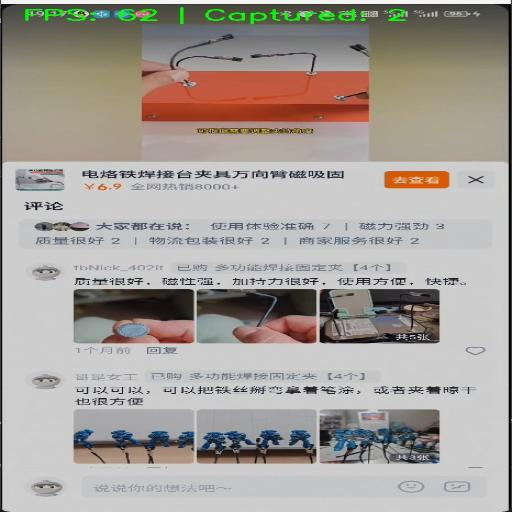butten: (382, 163, 452, 189)
close: (453, 167, 497, 191)
input: (82, 475, 399, 497)
